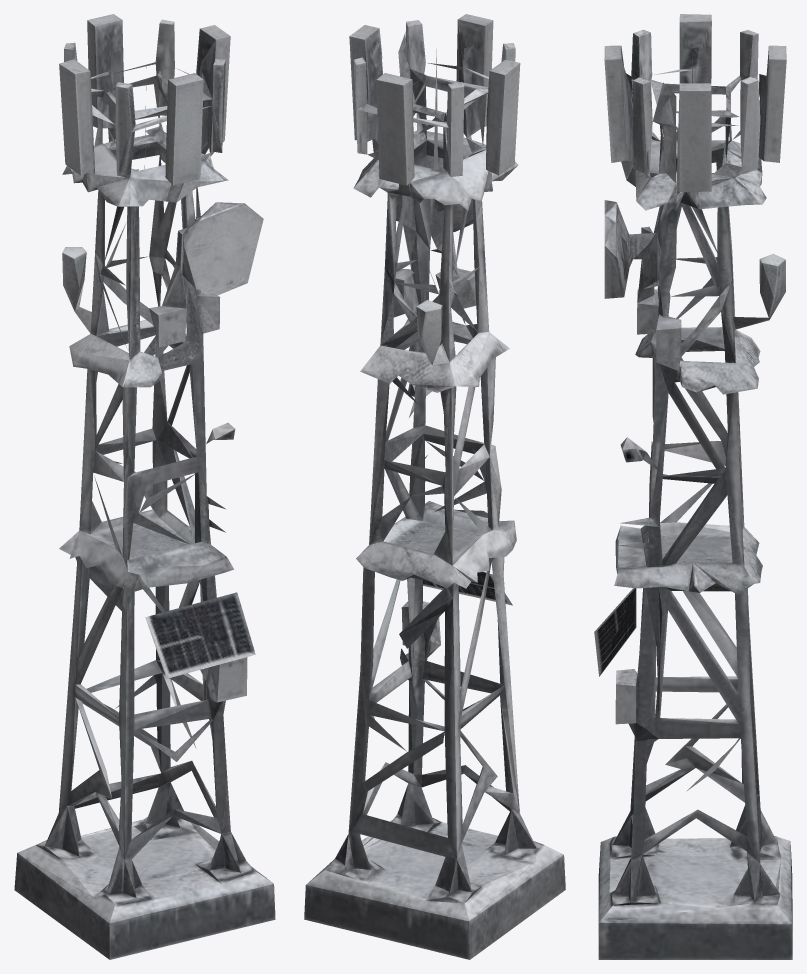
Rendered from sensor_mast.glb.
3 views of the same model, side by side, from view 1: azimuth 30°, elevation 25°; view 2: azimuth 150°, elevation 25°; view 3: azimuth 270°, elevation 25° (orthographic).
Parts seen in each view (by area): view 1: Mesh_0; view 2: Mesh_0; view 3: Mesh_0.
Part boxes in pixels (bbox=[...]): Mesh_0: bbox=[14, 14, 275, 959]; Mesh_0: bbox=[304, 14, 565, 959]; Mesh_0: bbox=[594, 14, 792, 959].
Bounding box in the file's own units: 0.3526 × 1.74 × 0.3604.
1 material, 1 textured.
